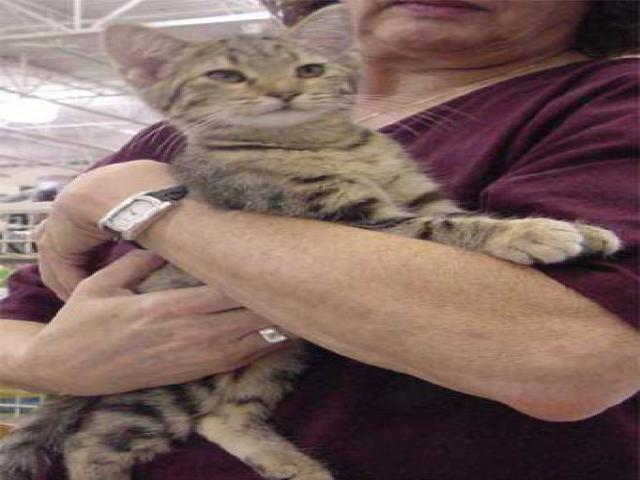cat: (48, 24, 547, 475)
